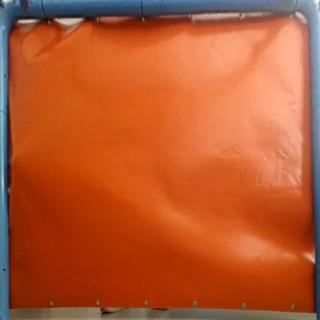Hit-hRxx: (9, 154, 18, 166)
